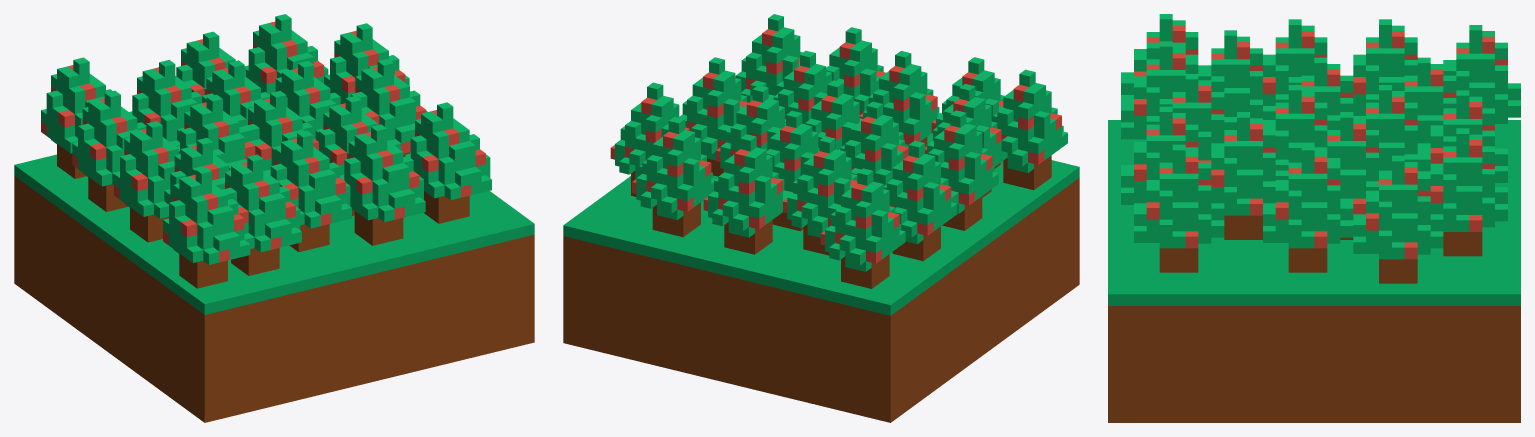
File: Forest.obj
3 views of the same model, side by side, from view 1: azimuth 30°, elevation 25°; view 2: azimuth 150°, elevation 25°; view 3: azimuth 270°, elevation 25° (orthographic). The views are drawn at different scales.
Bounding box in the file's own units: 3.2 × 2.1 × 3.2.
1 material, 1 textured.
